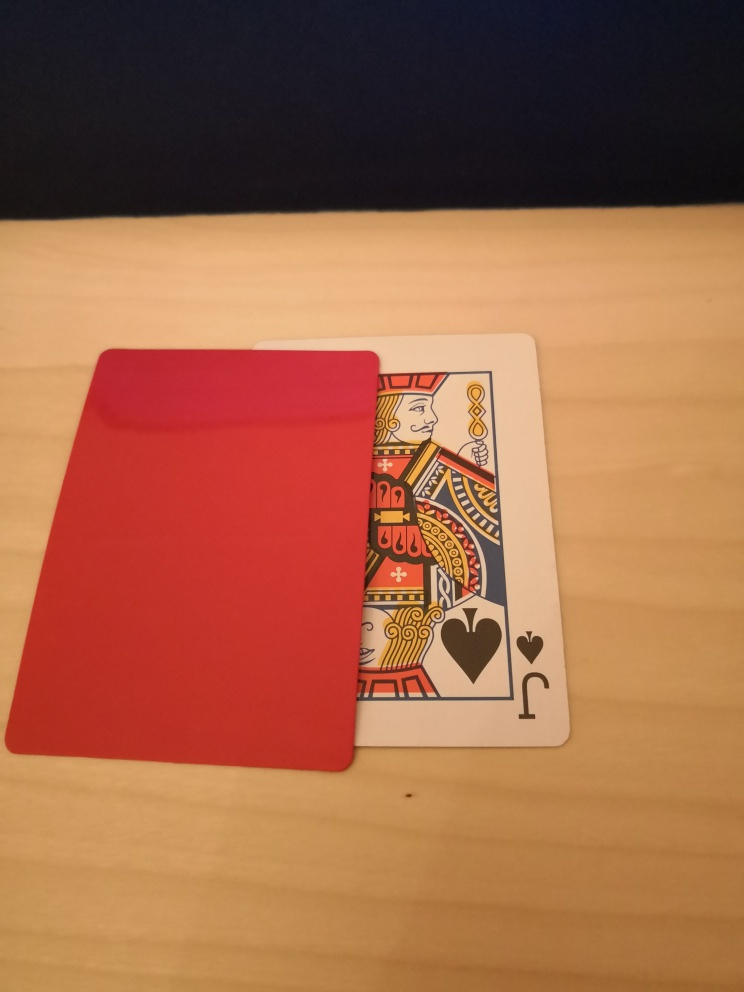jack: (351, 330, 571, 747)
